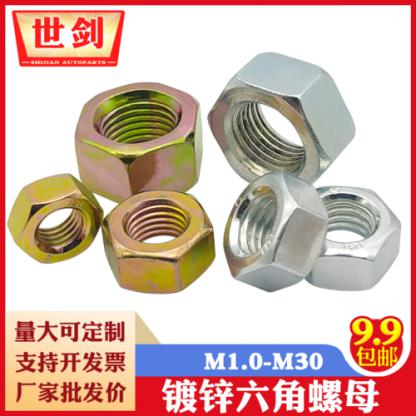FOD: (205, 48, 357, 198), (74, 80, 208, 201), (221, 172, 332, 290), (298, 178, 404, 293), (99, 191, 216, 294), (6, 174, 105, 267)
